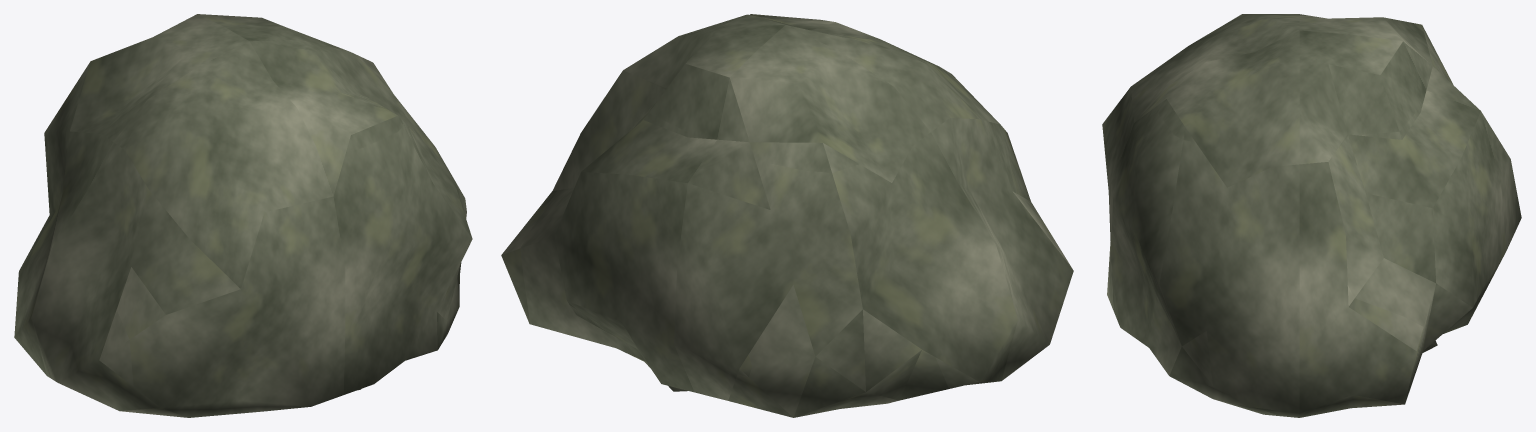
File: Rock_Mossy_3_LOD1.gltf
3 renders of one model, left to right at view 1: azimuth 30°, elevation 25°; view 2: azimuth 150°, elevation 25°; view 3: azimuth 270°, elevation 25°, orthographic. The views are drawn at different scales.
Parts seen in each view (by area): view 1: Rock_Mossy_3_LOD1; view 2: Rock_Mossy_3_LOD1; view 3: Rock_Mossy_3_LOD1.
Boxes of the visible parts, box(x1,y1,x2,y2) form: Rock_Mossy_3_LOD1: box(14, 14, 472, 417); Rock_Mossy_3_LOD1: box(501, 14, 1073, 417); Rock_Mossy_3_LOD1: box(1102, 14, 1521, 417).
Size of the model in its own units: 4.7 by 3.25 by 3.96.
1 material, 1 textured.
